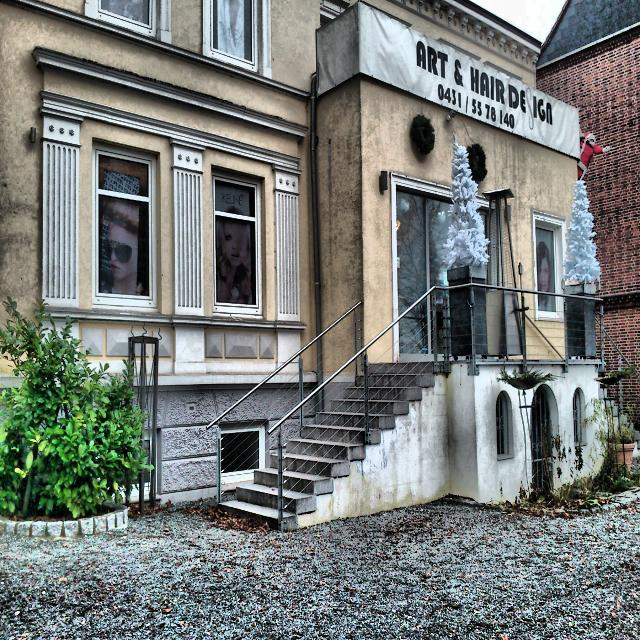escada: (216, 358, 444, 529)
